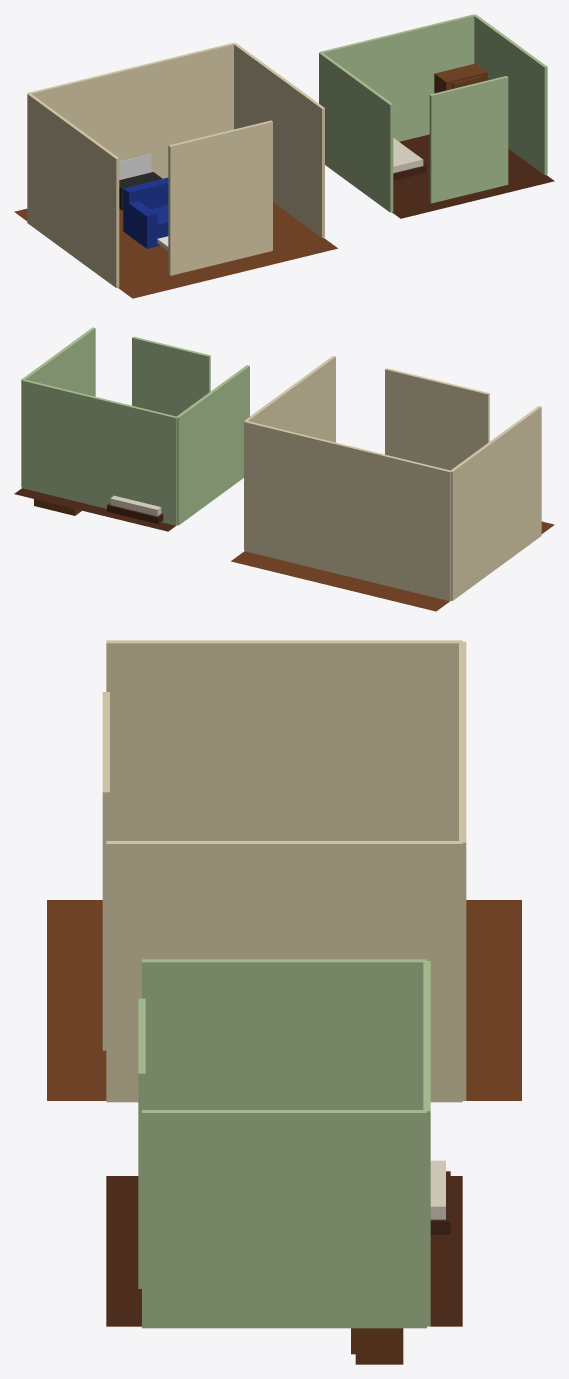
The model's file is boq_professional_e725cc57-ec7f-4d85-9673-7ae6b7e5741f.obj.
3 renders of one model, top to bottom at view 1: azimuth 30°, elevation 25°; view 2: azimuth 150°, elevation 25°; view 3: azimuth 270°, elevation 25°, orthographic. The views are drawn at different scales.
Parts seen in each view (by area): view 1: BackWall_modern_living_room, FrontWall_modern_living_room, LeftWall_modern_living_room, RightWall_modern_living_room, BackWall_master_bedroom, FrontWall_master_bedroom, LeftWall_master_bedroom, Floor_modern_living_room, RightWall_master_bedroom, Floor_master_bedroom, SofaBackrest_modern_living_room, SofaBody_modern_living_room (+5 smaller); view 2: BackWall_modern_living_room, BackWall_master_bedroom, LeftWall_modern_living_room, FrontWall_modern_living_room, LeftWall_master_bedroom, FrontWall_master_bedroom, RightWall_modern_living_room, Floor_modern_living_room, RightWall_master_bedroom, Floor_master_bedroom, Mattress_master_bedroom, BedFrame_master_bedroom; view 3: LeftWall_modern_living_room, RightWall_master_bedroom, RightWall_modern_living_room, LeftWall_master_bedroom, Floor_modern_living_room, Floor_master_bedroom, BackWall_modern_living_room, FrontWall_modern_living_room, BackWall_master_bedroom, Wardrobe_master_bedroom, FrontWall_master_bedroom, Mattress_master_bedroom.
Boxes of the visible parts, x1=… form: BackWall_modern_living_room: x1=28, y1=42, x2=233, y2=178; FrontWall_modern_living_room: x1=168, y1=120, x2=272, y2=275; LeftWall_modern_living_room: x1=27, y1=93, x2=119, y2=287; RightWall_modern_living_room: x1=233, y1=43, x2=324, y2=237; BackWall_master_bedroom: x1=319, y1=14, x2=475, y2=141; FrontWall_master_bedroom: x1=429, y1=76, x2=508, y2=203; LeftWall_master_bedroom: x1=319, y1=52, x2=393, y2=212; Floor_modern_living_room: x1=14, y1=202, x2=337, y2=298; RightWall_master_bedroom: x1=474, y1=14, x2=547, y2=174; Floor_master_bedroom: x1=392, y1=134, x2=554, y2=218; SofaBackrest_modern_living_room: x1=123, y1=177, x2=168, y2=224; SofaBody_modern_living_room: x1=123, y1=205, x2=168, y2=248; BackWall_modern_living_room: x1=244, y1=420, x2=451, y2=601; BackWall_master_bedroom: x1=22, y1=379, x2=177, y2=525; LeftWall_modern_living_room: x1=450, y1=406, x2=541, y2=600; FrontWall_modern_living_room: x1=385, y1=368, x2=489, y2=470; LeftWall_master_bedroom: x1=176, y1=365, x2=249, y2=525; FrontWall_master_bedroom: x1=132, y1=336, x2=210, y2=416; RightWall_modern_living_room: x1=244, y1=356, x2=335, y2=550; Floor_modern_living_room: x1=231, y1=521, x2=554, y2=611; RightWall_master_bedroom: x1=21, y1=327, x2=95, y2=487; Floor_master_bedroom: x1=14, y1=488, x2=175, y2=531; Mattress_master_bedroom: x1=110, y1=495, x2=161, y2=516; BedFrame_master_bedroom: x1=107, y1=503, x2=163, y2=524; LeftWall_modern_living_room: x1=106, y1=640, x2=462, y2=840; RightWall_master_bedroom: x1=142, y1=1110, x2=426, y2=1328; RightWall_modern_living_room: x1=106, y1=841, x2=462, y2=1102; LeftWall_master_bedroom: x1=142, y1=959, x2=426, y2=1109; Floor_modern_living_room: x1=47, y1=900, x2=521, y2=1100; Floor_master_bedroom: x1=106, y1=1176, x2=462, y2=1326; BackWall_modern_living_room: x1=459, y1=641, x2=466, y2=1100; FrontWall_modern_living_room: x1=102, y1=692, x2=109, y2=1050; BackWall_master_bedroom: x1=423, y1=961, x2=430, y2=1326; Wardrobe_master_bedroom: x1=355, y1=1328, x2=403, y2=1364; FrontWall_master_bedroom: x1=138, y1=998, x2=145, y2=1288; Mattress_master_bedroom: x1=430, y1=1160, x2=445, y2=1219.
Bounding box in the file's own units: 42.8 × 14 × 20.
